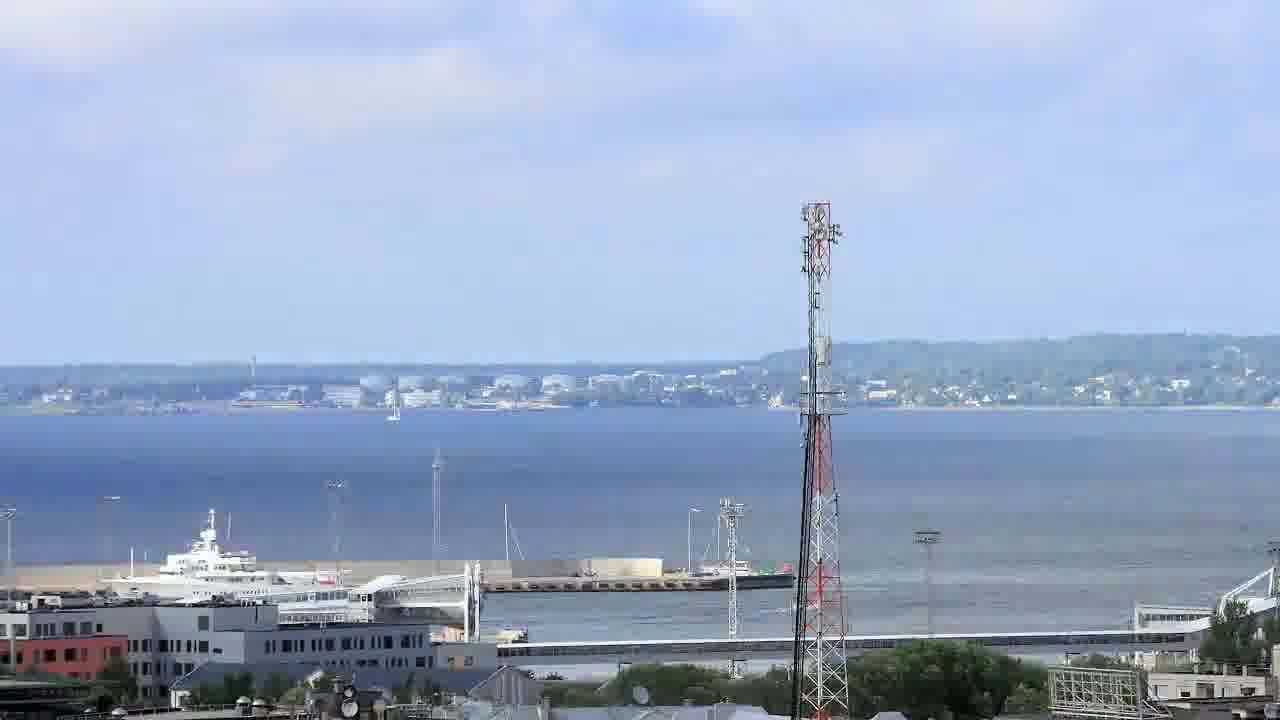type-3: (77, 509, 366, 613)
